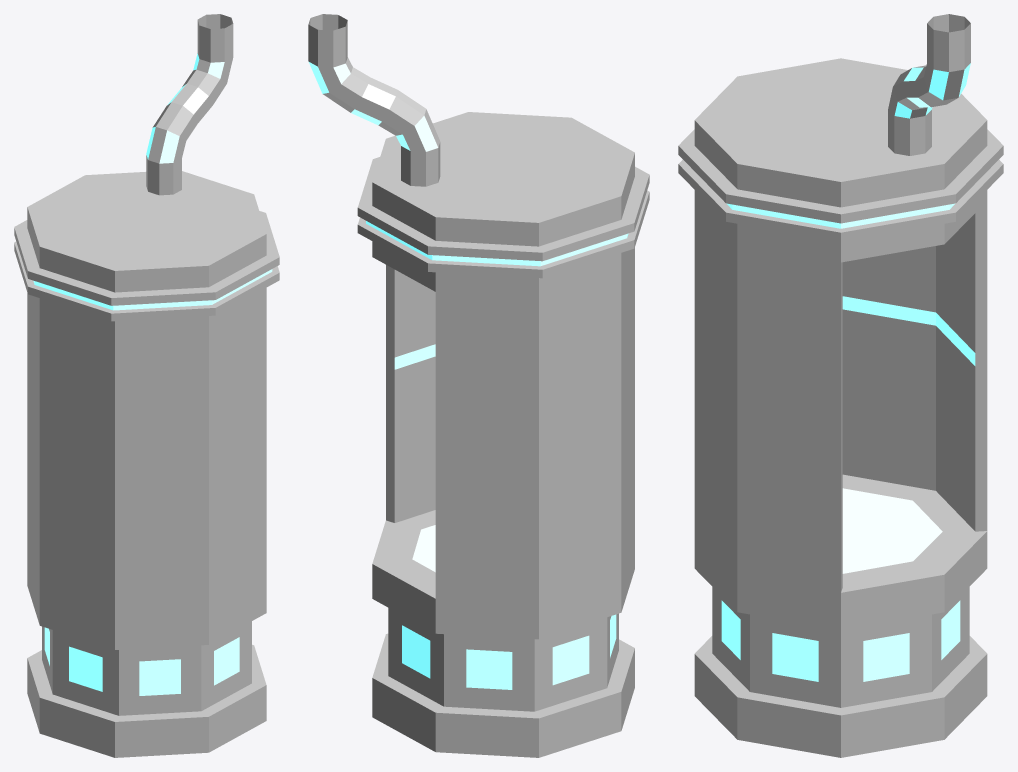
File: bronya.fbx
The picture shows the model from 3 angles, left to right: view 1: azimuth 30°, elevation 25°; view 2: azimuth 150°, elevation 25°; view 3: azimuth 270°, elevation 25°; orthographic projection. The views are drawn at different scales.
Visible parts, largest first — view 1: Cylinder.001, Cylinder; view 2: Cylinder.001, Cylinder; view 3: Cylinder.001, Cylinder.
Boxes of the visible parts, x1=… form: Cylinder.001: x1=14, y1=171, x2=279, y2=757; Cylinder: x1=146, y1=14, x2=233, y2=195; Cylinder.001: x1=357, y1=112, x2=649, y2=757; Cylinder: x1=308, y1=14, x2=440, y2=186; Cylinder.001: x1=678, y1=58, x2=1003, y2=757; Cylinder: x1=888, y1=14, x2=970, y2=155.
Size of the model in its own units: 1.4 by 3.35 by 1.34.
